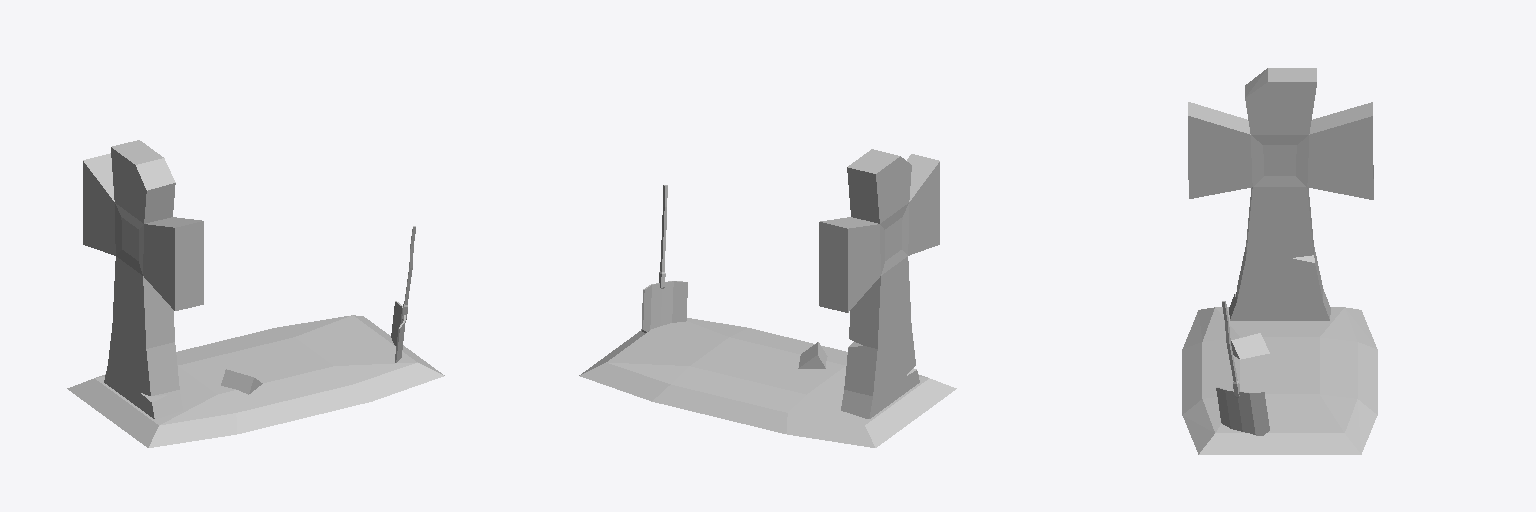
Rendered from gravestone.obj.
The picture shows the model from 3 angles: view 1: azimuth 30°, elevation 25°; view 2: azimuth 150°, elevation 25°; view 3: azimuth 270°, elevation 25°; orthographic projection.
Visible parts, largest first — view 1: Gravestone_Gravestone_mesh; view 2: Gravestone_Gravestone_mesh; view 3: Gravestone_Gravestone_mesh.
Part boxes in pixels (x1,y1,x2,y2): Gravestone_Gravestone_mesh: (67, 140, 444, 447); Gravestone_Gravestone_mesh: (579, 149, 956, 447); Gravestone_Gravestone_mesh: (1182, 68, 1377, 454).
Size of the model in its own units: 1.85 by 1.51 by 1.06.